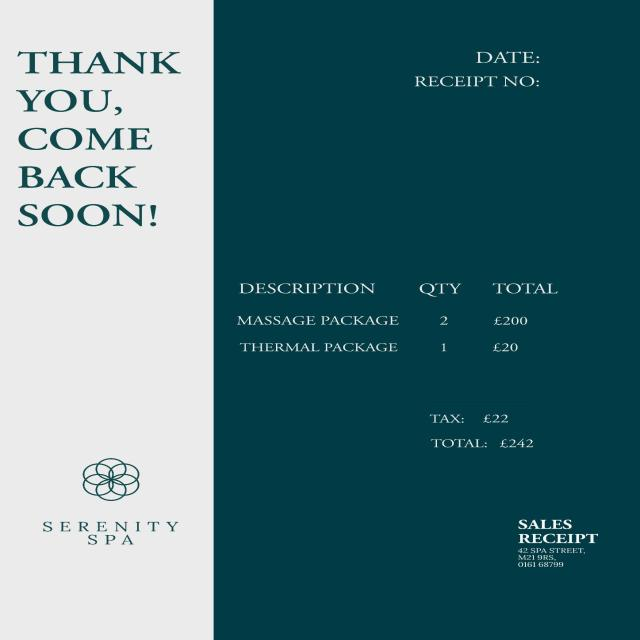paragraph: (11, 47, 190, 236), (390, 44, 572, 95), (35, 508, 190, 558), (422, 404, 548, 459), (510, 513, 614, 579)
table: (226, 272, 574, 370)
